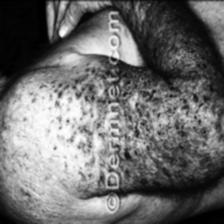Potentially Malignant Skin Tumors: (127, 0, 224, 159), (70, 79, 107, 141)
